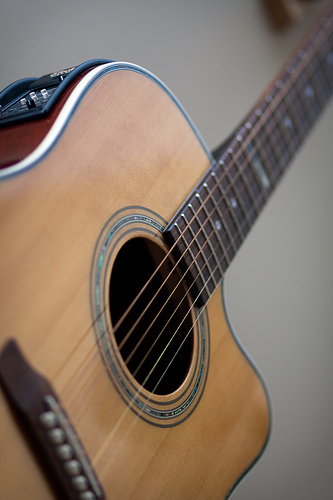guitar: (1, 3, 328, 500)
